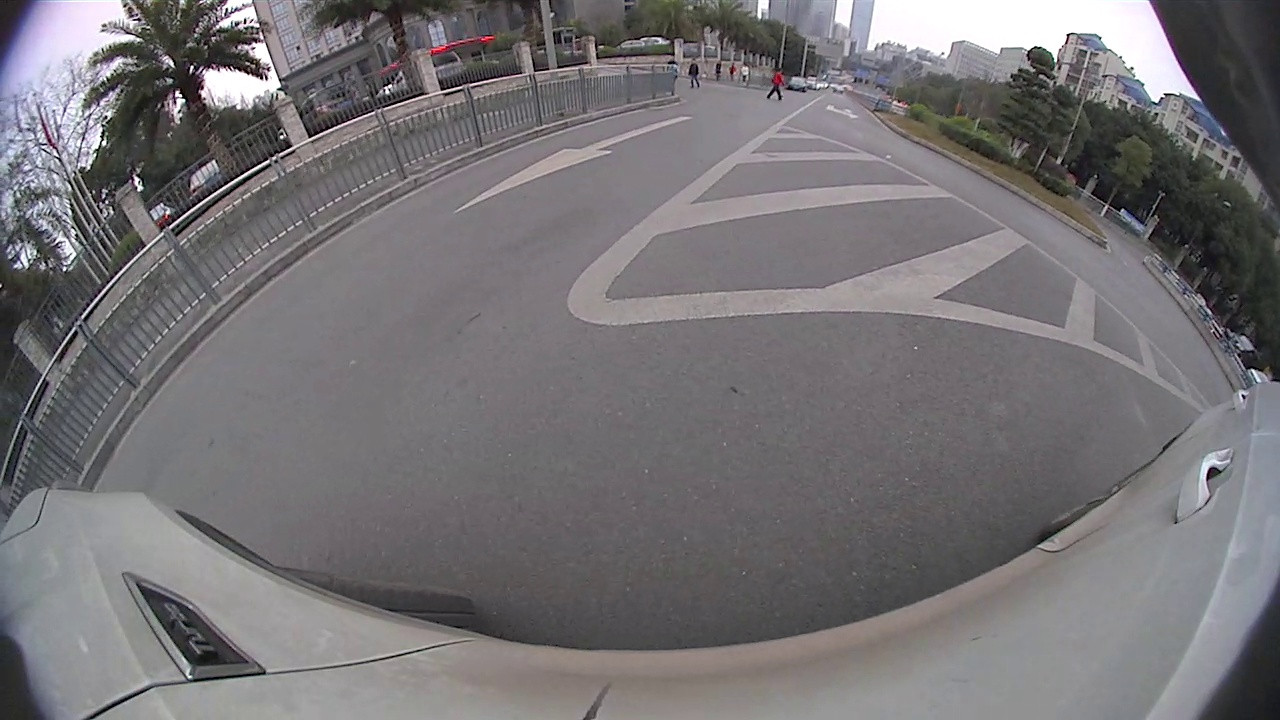person: (770, 66, 783, 100)
